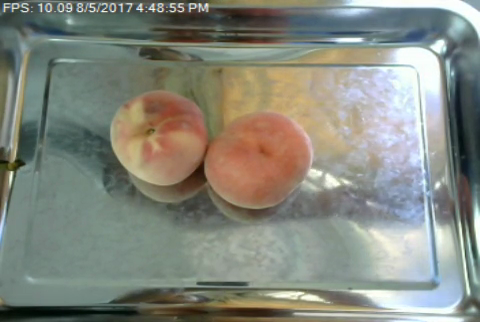Peach: (109, 88, 210, 187), (204, 112, 310, 206)
